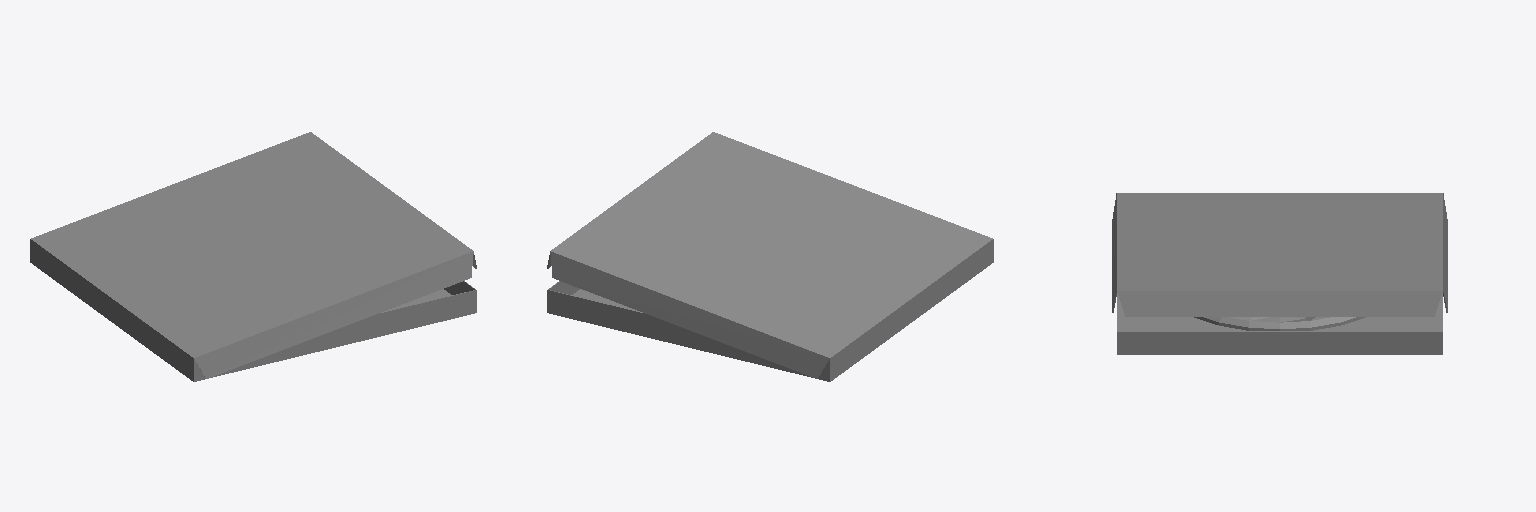
Rendered from pizzabox.obj.
3 renders of one model, left to right at view 1: azimuth 30°, elevation 25°; view 2: azimuth 150°, elevation 25°; view 3: azimuth 270°, elevation 25°, orthographic.
Visible parts, largest first — view 1: Object01; view 2: Object01; view 3: Object01.
Part boxes in pixels (bbox=[...]): Object01: bbox=[30, 132, 476, 381]; Object01: bbox=[547, 132, 993, 381]; Object01: bbox=[1112, 193, 1447, 354].
Size of the model in its own units: 0.6541 by 0.1361 by 0.6602.